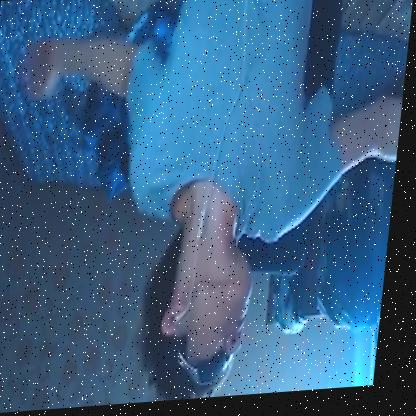streamer: (0, 0, 416, 414)
